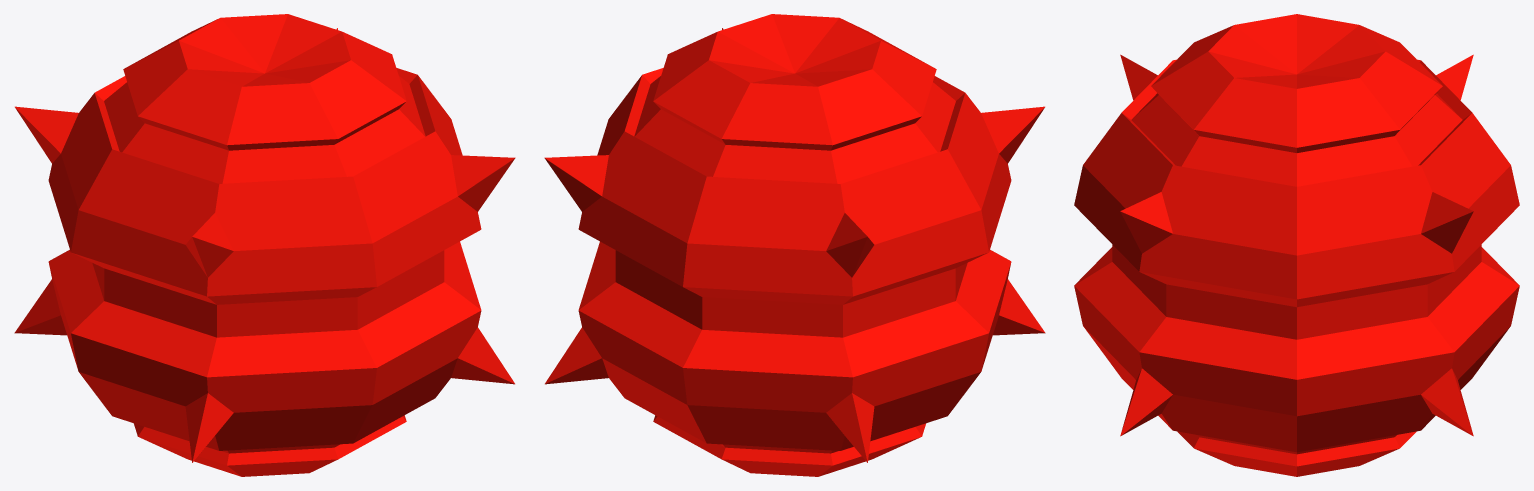
The model's file is EVILbullet.glb.
The picture shows the model from 3 angles, left to right: view 1: azimuth 30°, elevation 25°; view 2: azimuth 150°, elevation 25°; view 3: azimuth 270°, elevation 25°; orthographic projection.
Parts seen in each view (by area): view 1: Sphere; view 2: Sphere; view 3: Sphere.
Boxes of the visible parts, x1=… form: Sphere: x1=14, y1=14, x2=515, y2=476; Sphere: x1=544, y1=14, x2=1045, y2=476; Sphere: x1=1074, y1=14, x2=1519, y2=476.
Size of the model in its own units: 1.26 by 1.21 by 1.26.
1 material, 1 textured.
